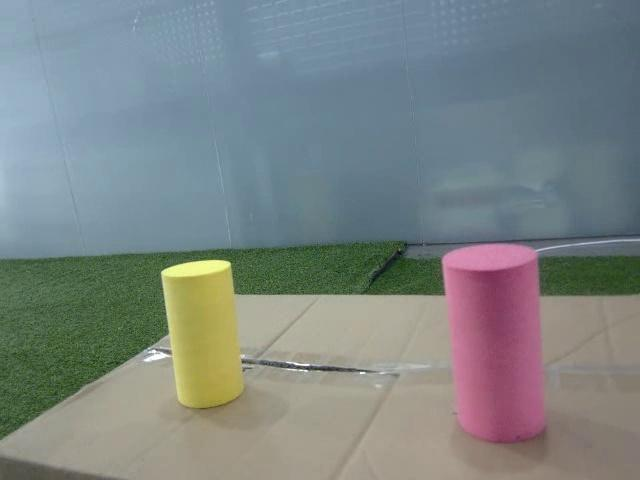red_cylinder: (444, 246, 542, 439)
yellow_cylinder: (160, 260, 244, 408)
